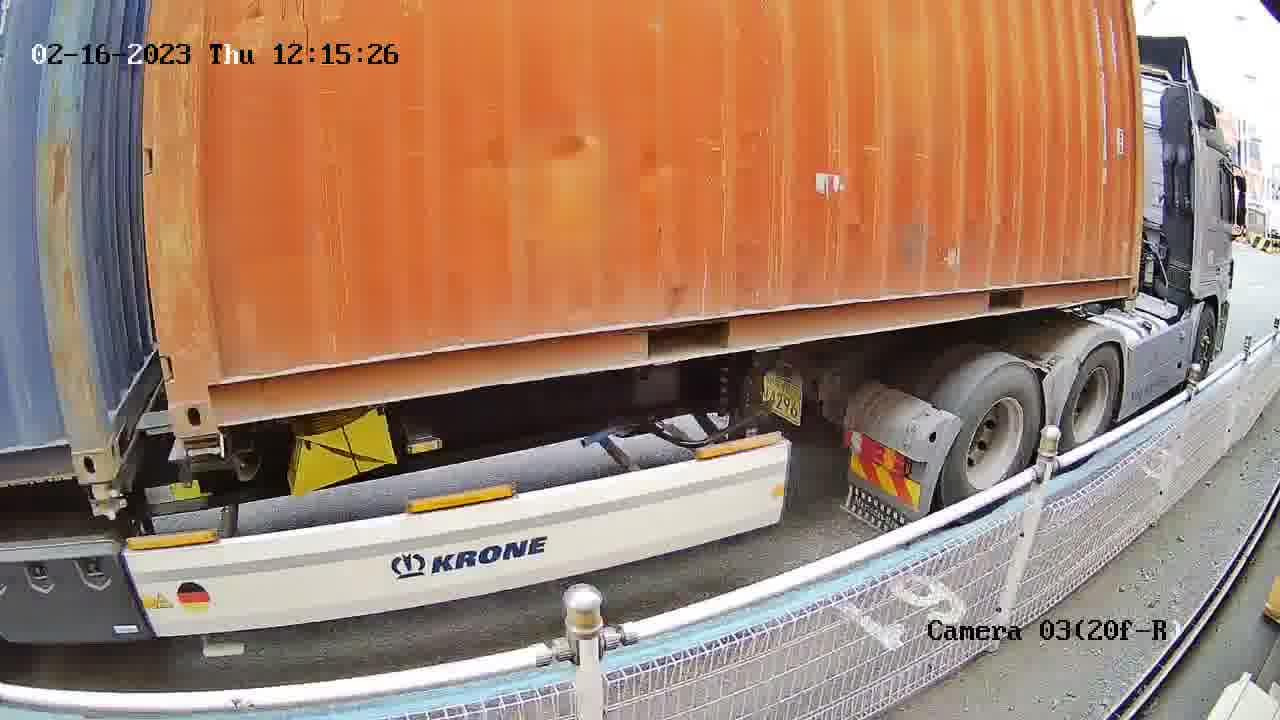Cone: (81, 464, 134, 525), (176, 430, 228, 469)
Hole_L: (160, 354, 251, 434), (97, 361, 139, 480)
Hole_R: (26, 400, 109, 490)
Tire: (943, 362, 1042, 504), (1062, 347, 1120, 447)
